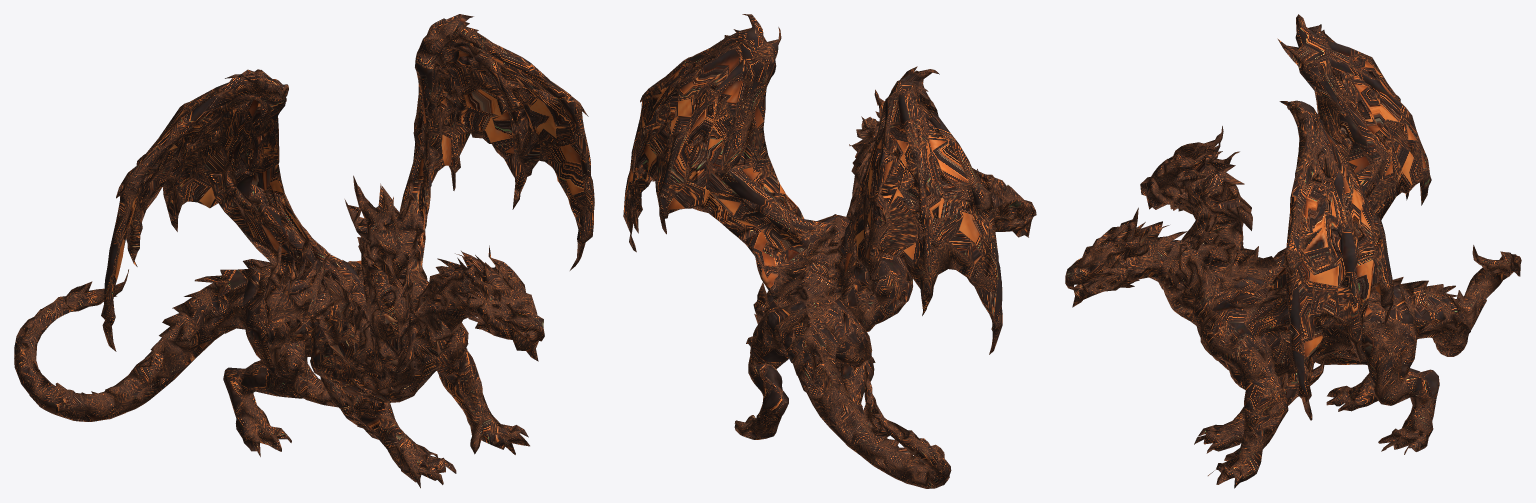
File: vyrathax.glb
The picture shows the model from 3 angles, left to right: view 1: azimuth 30°, elevation 25°; view 2: azimuth 150°, elevation 25°; view 3: azimuth 270°, elevation 25°; orthographic projection. The views are drawn at different scales.
Visible parts, largest first — view 1: Mesh_0; view 2: Mesh_0; view 3: Mesh_0.
Boxes of the visible parts, box(x1,y1,x2,y2) form: Mesh_0: box(14, 14, 594, 488); Mesh_0: box(623, 14, 1036, 488); Mesh_0: box(1065, 14, 1521, 488).
Bounding box in the file's own units: 1.9 × 1.6 × 1.75.
1 material, 1 textured.
